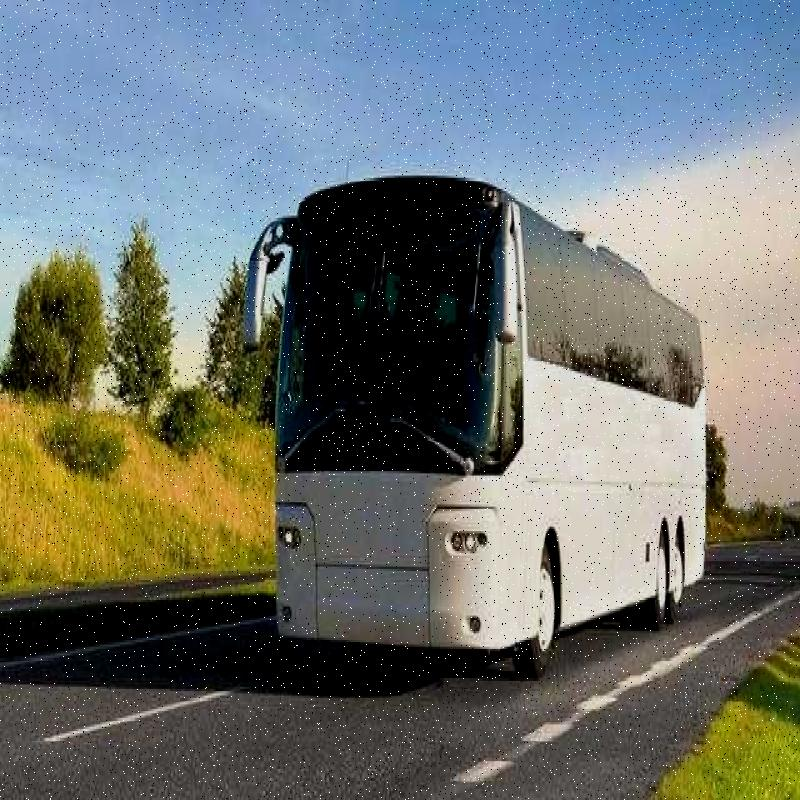bus: (236, 154, 738, 679)
